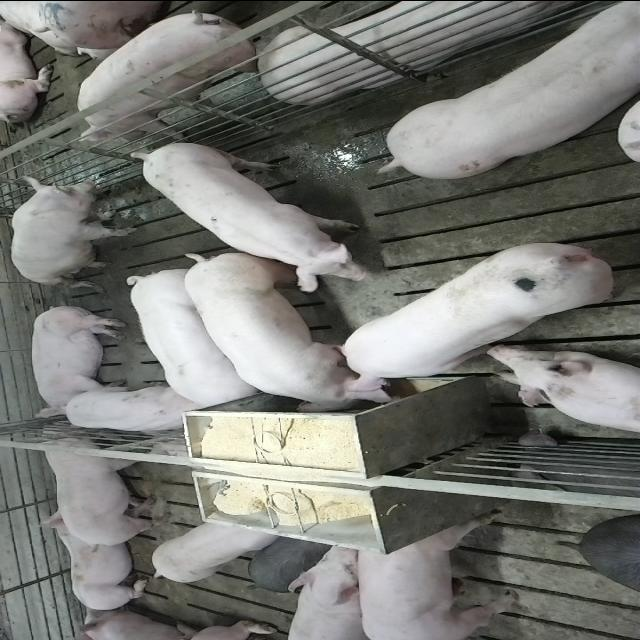Feeding: (332, 240, 619, 396), (178, 253, 392, 418)
Lateral_lying: (29, 302, 129, 418)
Sitting: (8, 174, 138, 286)
Standing: (380, 0, 640, 175), (130, 136, 388, 284), (74, 5, 267, 140), (354, 508, 514, 638), (123, 267, 264, 411), (32, 426, 172, 549), (286, 541, 389, 640), (150, 516, 278, 584), (246, 534, 332, 594)
Sternal_lying: (262, 0, 607, 101), (487, 346, 640, 434), (35, 514, 155, 612), (49, 382, 200, 436)
